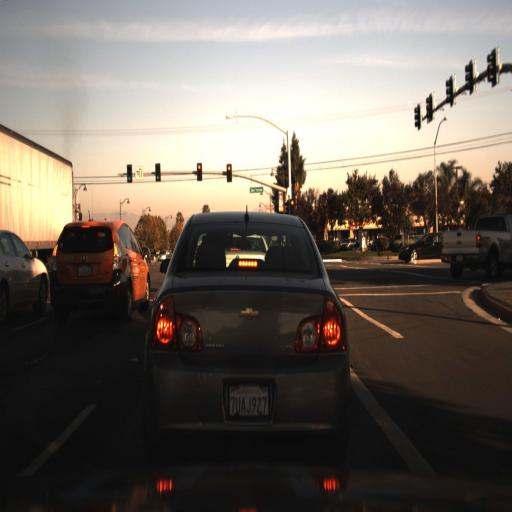car: (148, 212, 346, 458), (50, 216, 151, 325), (443, 209, 511, 286), (0, 226, 50, 324), (397, 228, 445, 263)
trafficLight-GreenLeft: (152, 160, 162, 186), (125, 159, 135, 184)
trafficLight-Red: (224, 162, 234, 186), (196, 158, 205, 182), (288, 196, 297, 220)
truck: (0, 110, 74, 277), (0, 118, 81, 269)
